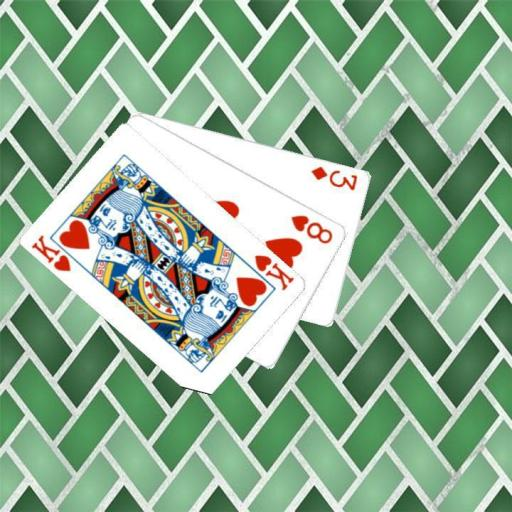card-corner: (29, 231, 73, 273), (251, 251, 296, 292), (288, 212, 335, 246), (308, 163, 360, 192)
